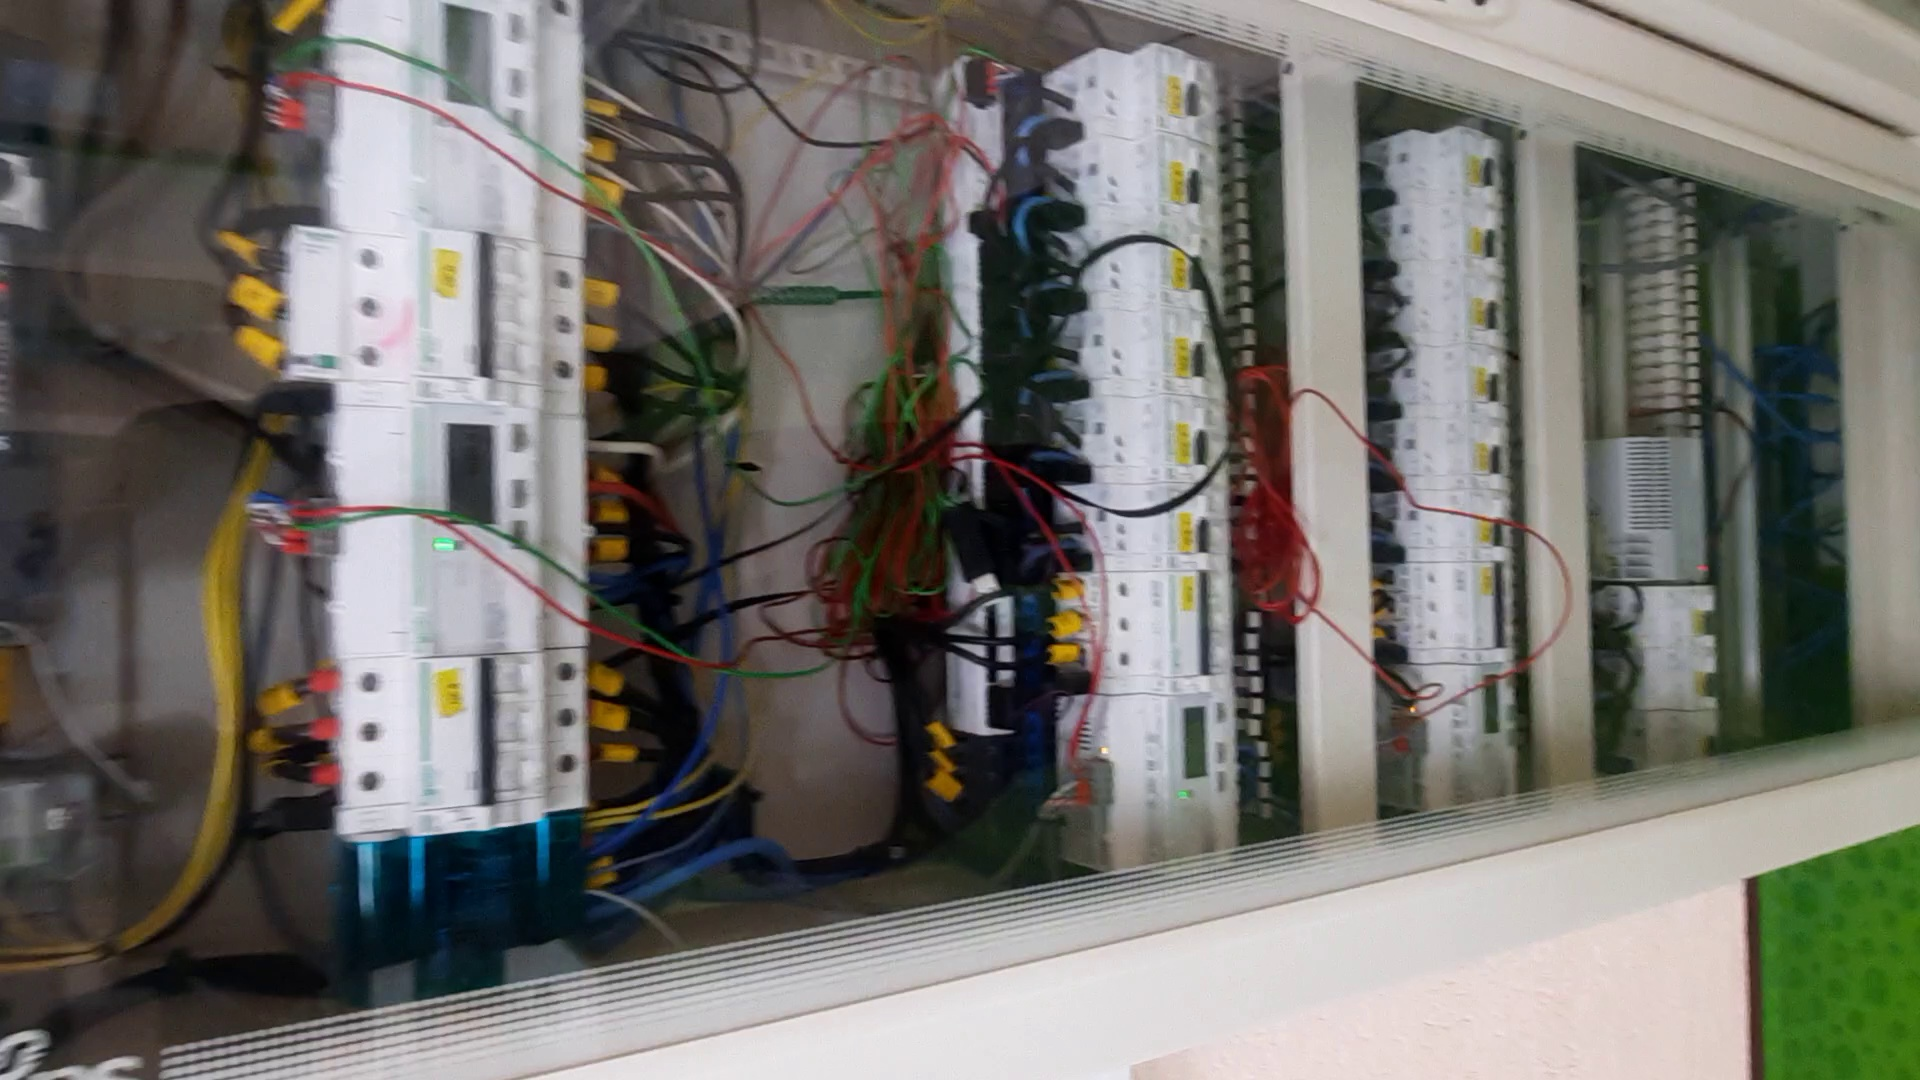stand1: (3, 1, 1920, 1080)
